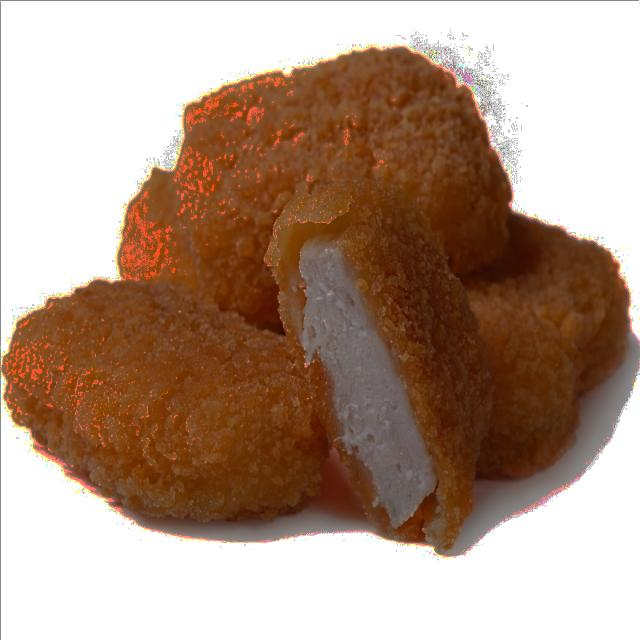chicken_nuggets: (242, 138, 508, 584), (9, 261, 347, 565), (170, 29, 509, 288)
